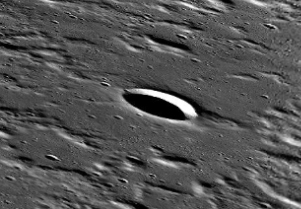crater: (67, 73, 278, 183)
